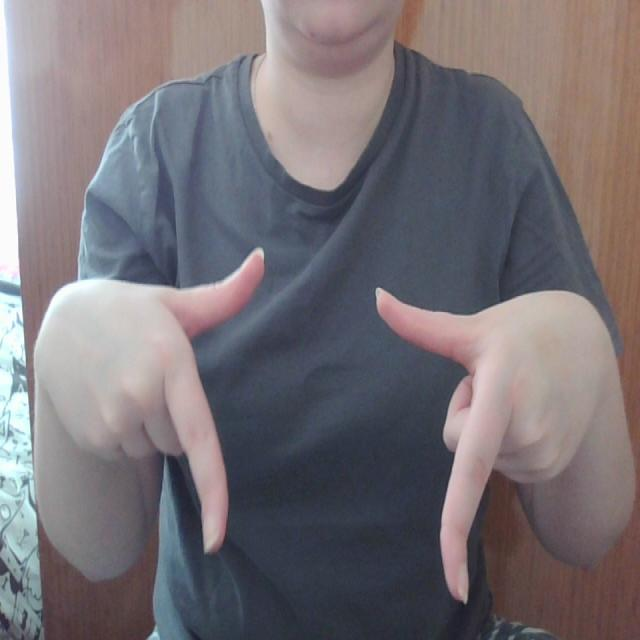Nerede: (157, 244, 525, 612)
